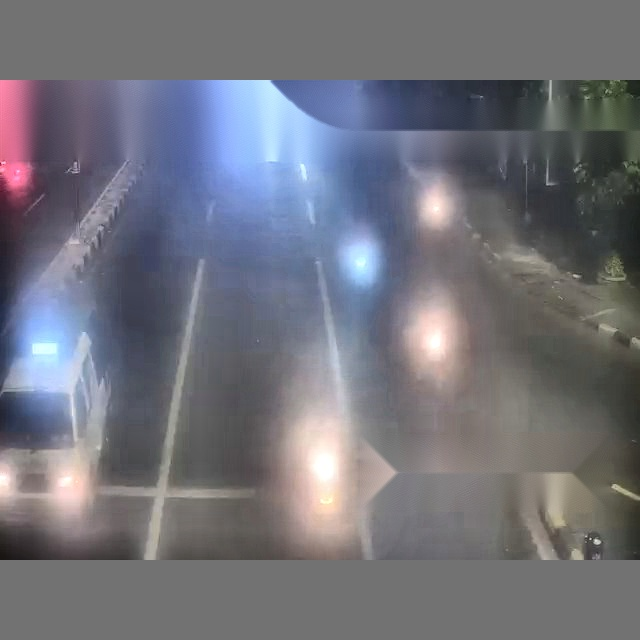Mobil: (0, 288, 109, 528)
Truk: (0, 80, 44, 209)
